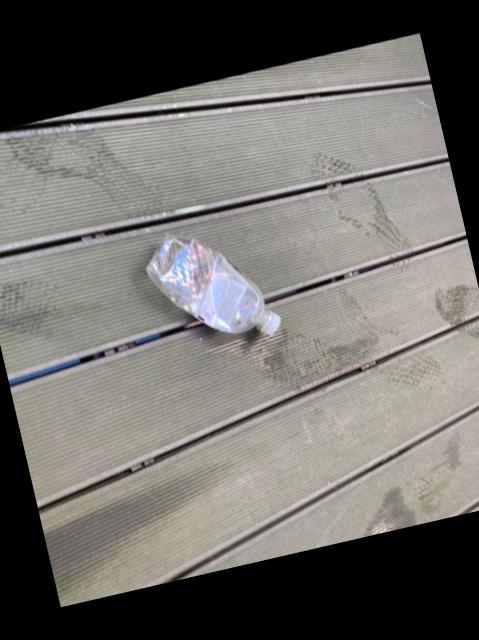plastic: (146, 236, 280, 335)
